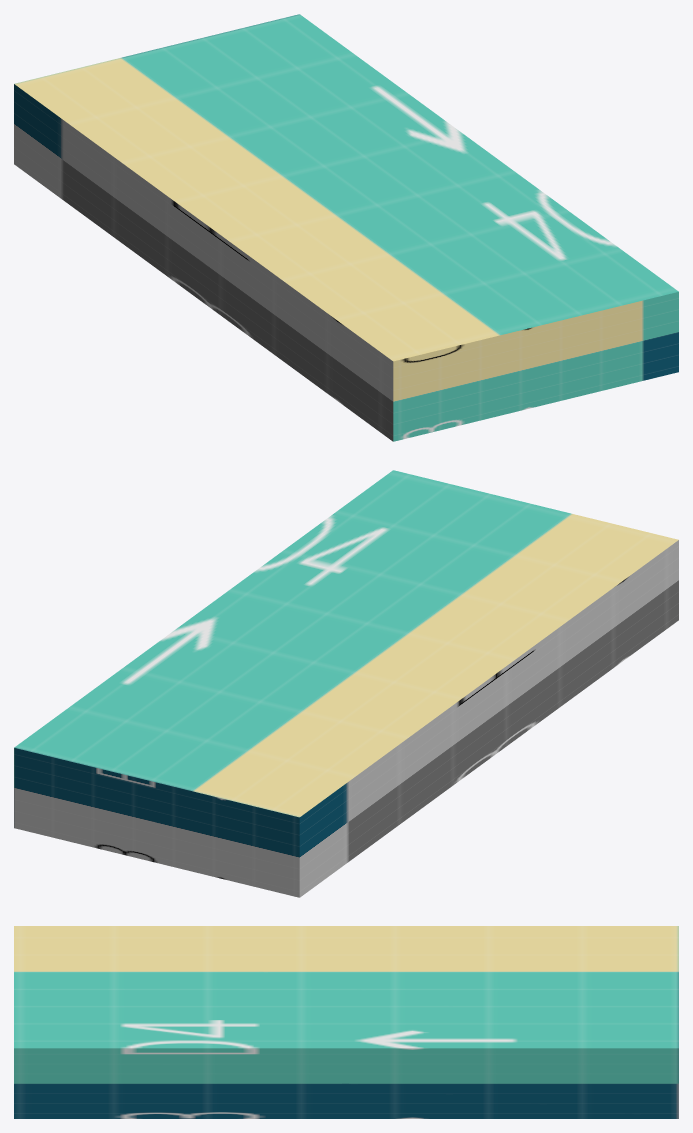
File: keyboard.glb
The picture shows the model from 3 angles, top to bottom: view 1: azimuth 30°, elevation 25°; view 2: azimuth 150°, elevation 25°; view 3: azimuth 270°, elevation 25°; orthographic projection. The views are drawn at different scales.
Visible parts, largest first — view 1: col_keyboard; view 2: col_keyboard; view 3: col_keyboard.
Part boxes in pixels (bbox=[...]): col_keyboard: bbox=[14, 14, 678, 441]; col_keyboard: bbox=[14, 470, 678, 897]; col_keyboard: bbox=[14, 926, 678, 1118].
Size of the model in its own units: 0.275 by 0.0739 by 0.6323.
1 material, 1 textured.
